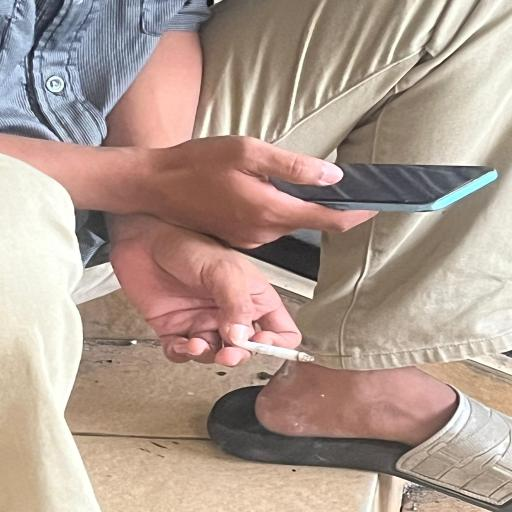pegang rokok: (172, 234, 337, 435)
